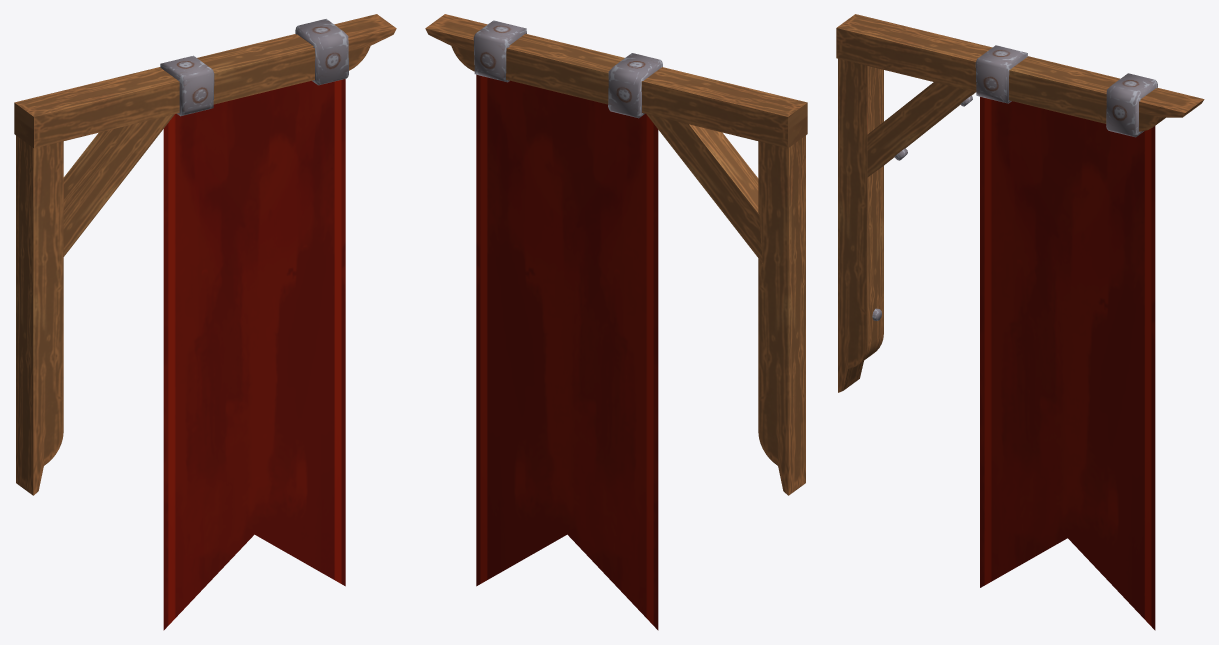
Rendered from Banner_1.gltf.
3 renders of one model, left to right at view 1: azimuth 30°, elevation 25°; view 2: azimuth 150°, elevation 25°; view 3: azimuth 330°, elevation 25°, orthographic. The views are drawn at different scales.
Parts seen in each view (by area): view 1: Banner_1; view 2: Banner_1; view 3: Banner_1.
Boxes of the visible parts, x1,y1,x2,y2 form: Banner_1: [14, 14, 396, 630]; Banner_1: [425, 14, 807, 630]; Banner_1: [836, 14, 1204, 630].
Size of the model in its own units: 1.61 by 2.39 by 0.1906.
3 materials, 3 textured.
